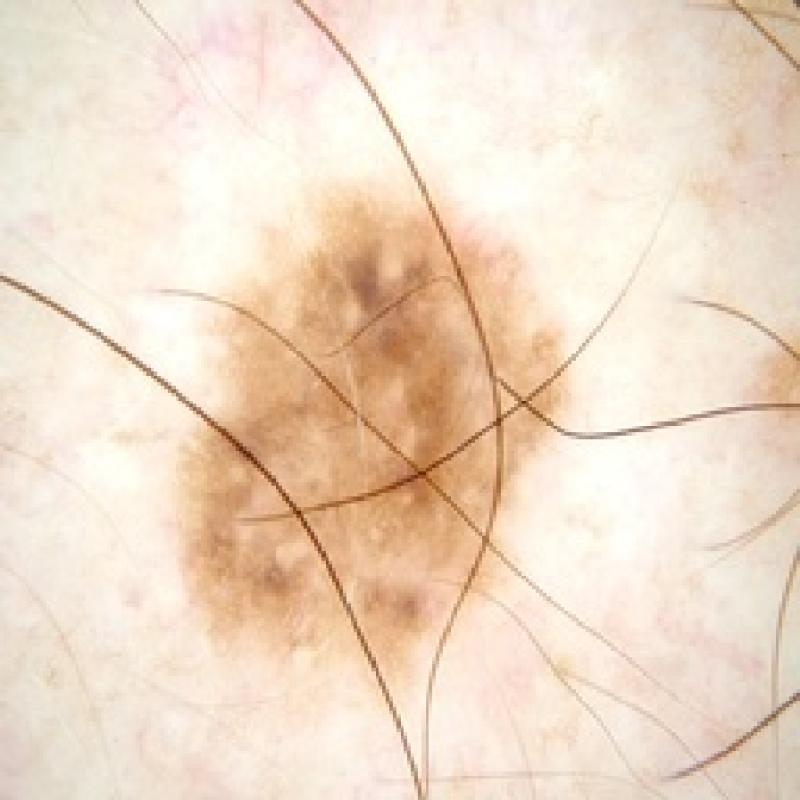malignant: (174, 174, 576, 723)
